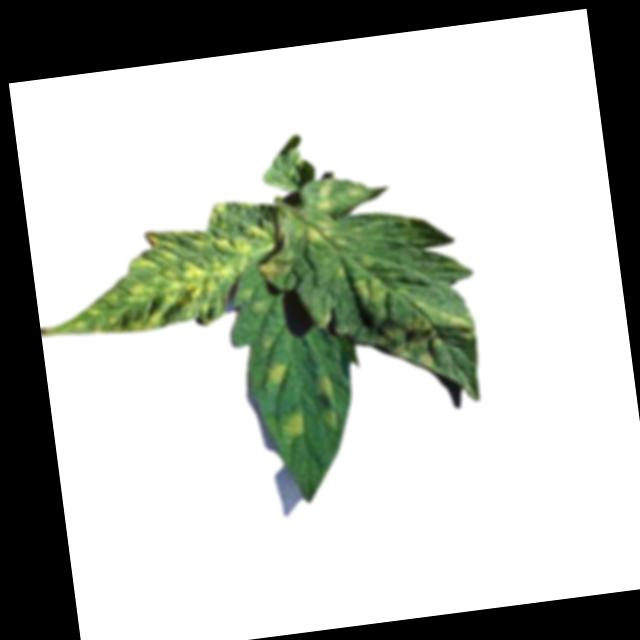Leaf_Mold: (38, 195, 285, 342), (368, 293, 478, 377), (295, 172, 343, 245), (348, 252, 387, 308), (311, 370, 342, 434), (264, 361, 293, 395), (280, 409, 305, 440)
